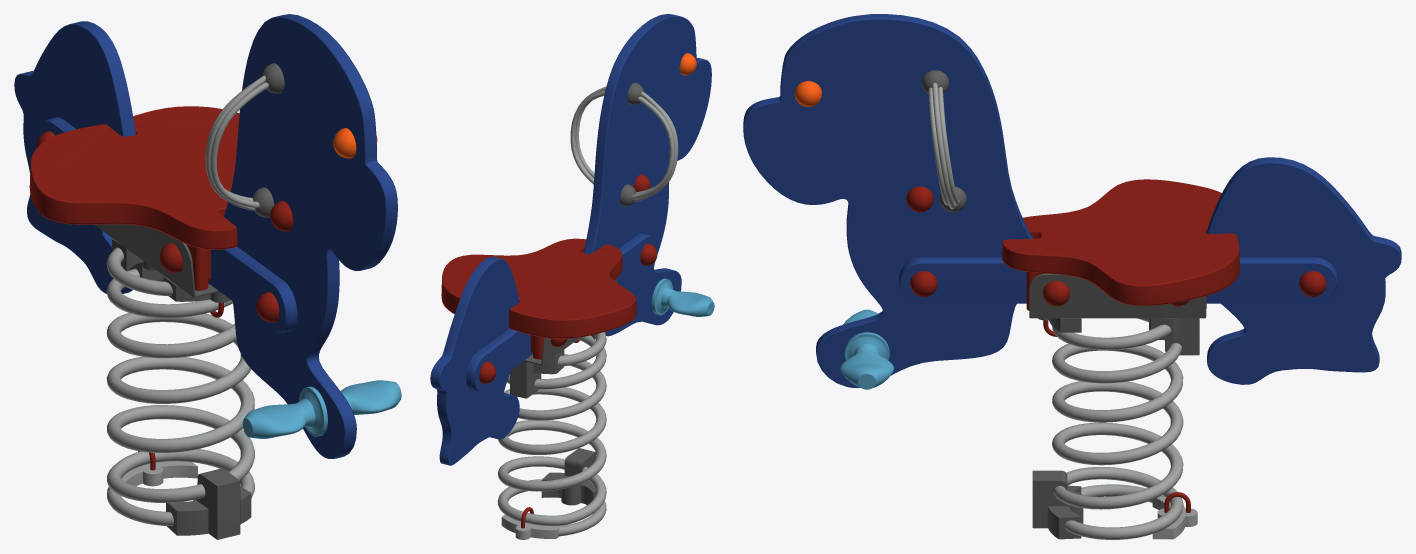
The model's file is SpringRider.fbx.
3 renders of one model, left to right at view 1: azimuth 30°, elevation 25°; view 2: azimuth 150°, elevation 25°; view 3: azimuth 270°, elevation 25°, orthographic. The views are drawn at different scales.
Parts seen in each view (by area): view 1: SpringRider_Body, SpringRider_Base; view 2: SpringRider_Body, SpringRider_Base; view 3: SpringRider_Body, SpringRider_Base.
Boxes of the visible parts, x1=… form: SpringRider_Body: x1=14, y1=14, x2=401, y2=480; SpringRider_Base: x1=107, y1=449, x2=254, y2=539; SpringRider_Body: x1=430, y1=14, x2=714, y2=491; SpringRider_Base: x1=497, y1=448, x2=606, y2=539; SpringRider_Body: x1=743, y1=14, x2=1401, y2=509; SpringRider_Base: x1=1032, y1=467, x2=1197, y2=539.
Bounding box in the file's own units: 0.2902 × 0.6399 × 0.7529.
